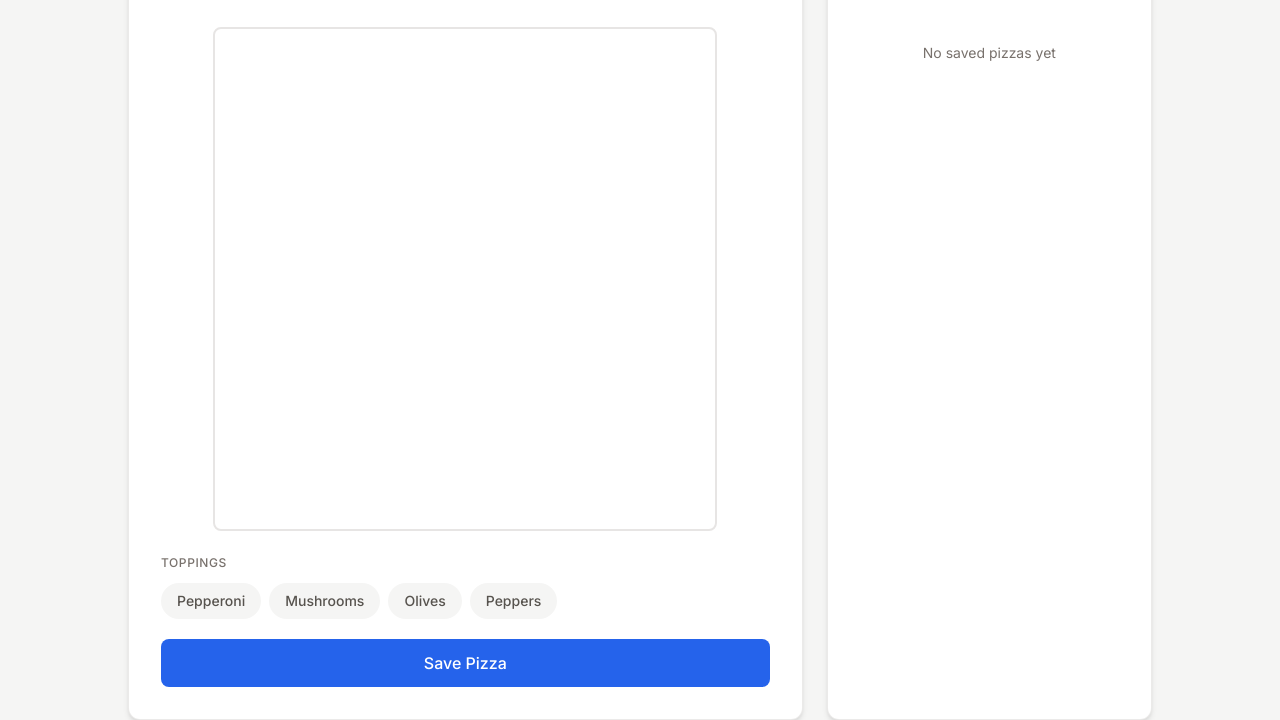
Test: PizzaCanvas › hides save dialog when Cancel is clicked
The image size is (1280, 720).
(page scrolled)
Click the button "Save Pizza": (465, 663) [161,639,770,687]
(page scrolled)
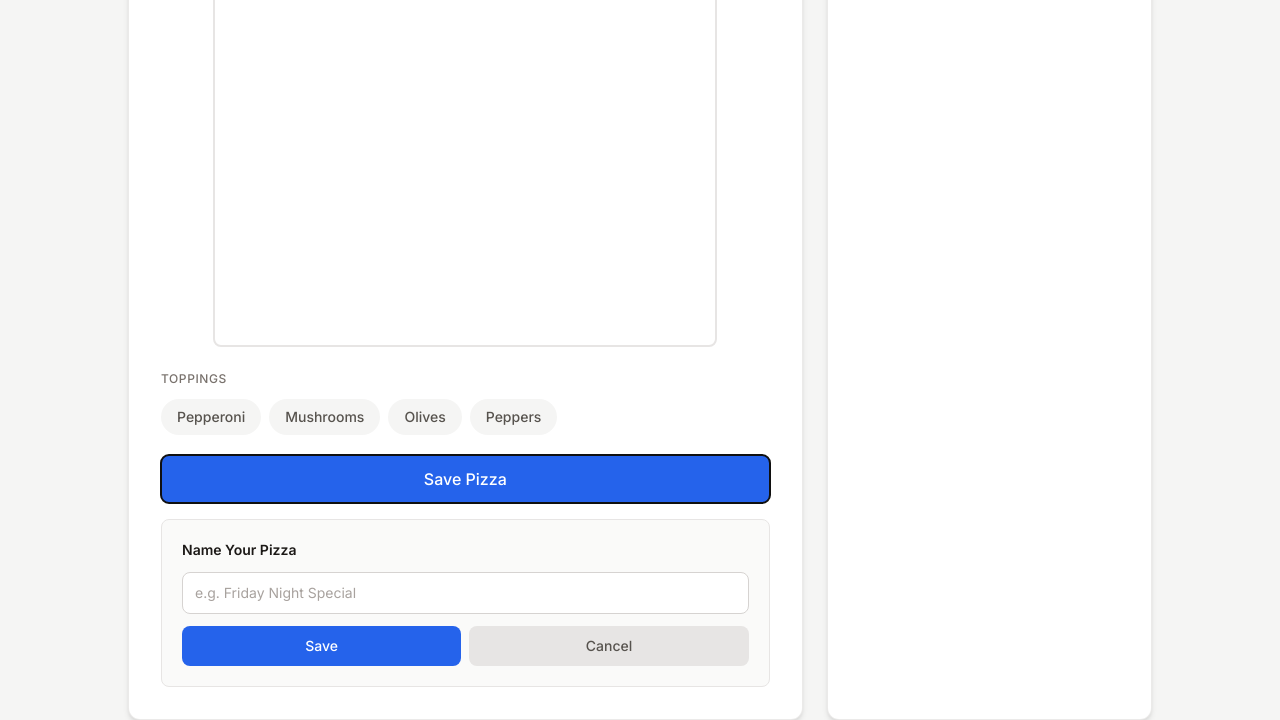
Expected: the heading "Name Your Pizza" is shown, [182,541,296,558]
Click the button "Cancel": (609, 646) [469,626,749,666]
(page scrolled)
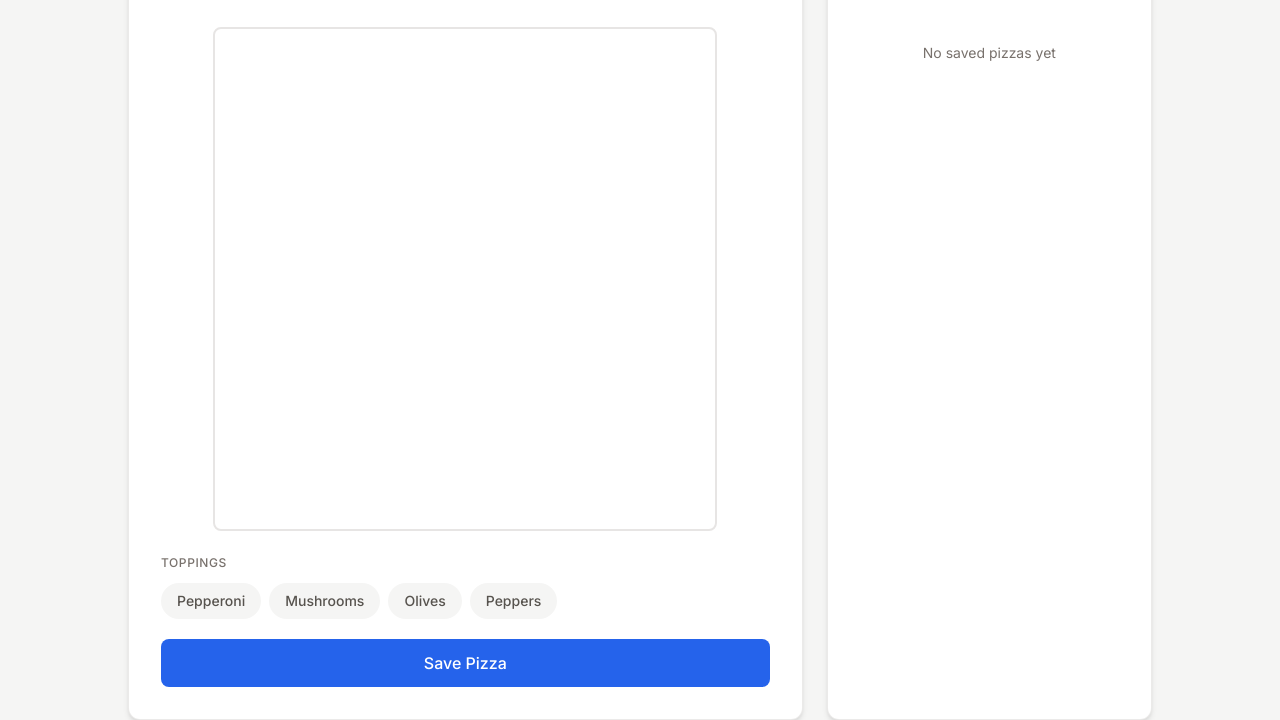
Expected: the heading "Name Your Pizza" is gone
